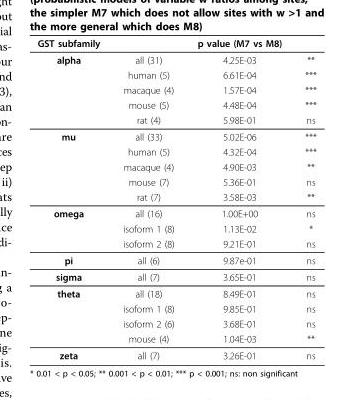table: (36, 37, 315, 360)
table column: (185, 37, 292, 360), (110, 37, 185, 360), (36, 37, 110, 360), (292, 37, 315, 360)
table column header: (36, 37, 315, 51)
table row: (36, 251, 315, 268), (36, 51, 315, 67), (36, 127, 315, 143), (36, 143, 315, 159), (36, 204, 315, 220), (36, 235, 315, 251), (36, 268, 315, 284), (36, 284, 315, 300), (36, 330, 315, 346), (36, 67, 315, 82), (36, 82, 315, 97), (36, 97, 315, 112), (36, 112, 315, 127), (36, 159, 315, 174), (36, 174, 315, 189), (36, 189, 315, 204), (36, 220, 315, 235), (36, 300, 315, 315), (36, 315, 315, 330), (36, 37, 315, 51), (36, 346, 315, 360)
table spanning cell: (36, 127, 110, 204), (36, 51, 110, 127), (36, 284, 110, 346), (36, 204, 110, 251)
